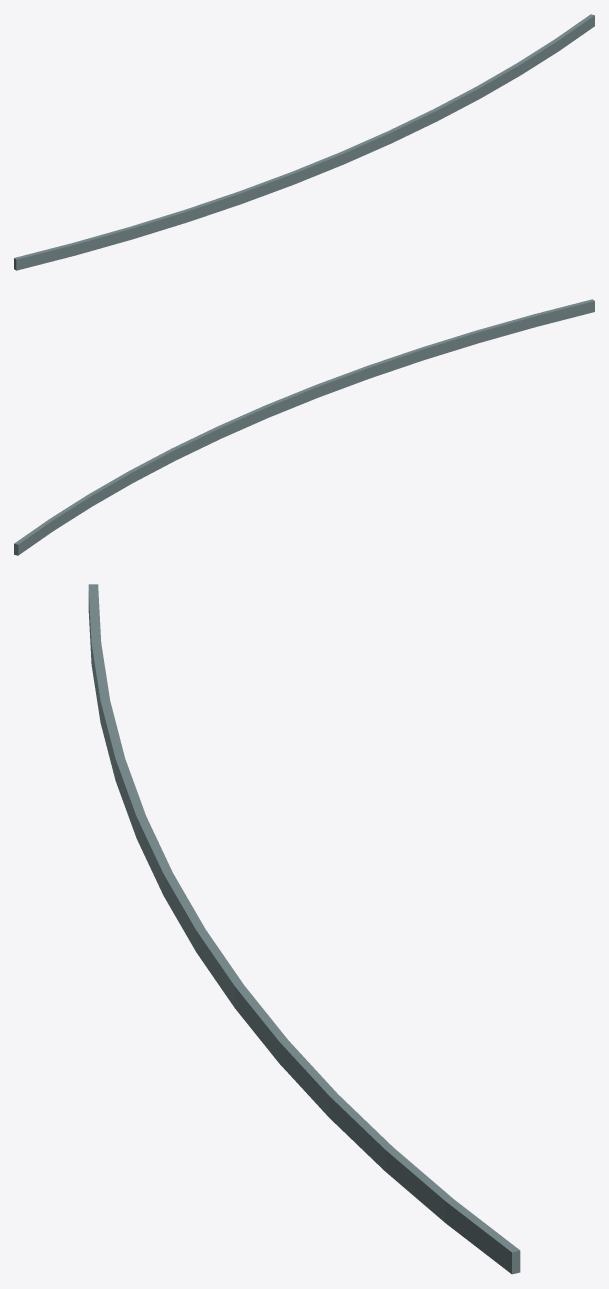
File: RoadPlan_WalkCurve_2L_A30_R36_Curb_-1.glb
The picture shows the model from 3 angles, top to bottom: view 1: azimuth 30°, elevation 25°; view 2: azimuth 210°, elevation 25°; view 3: azimuth 270°, elevation 25°; orthographic projection. The views are drawn at different scales.
Visible parts, largest first — view 1: RoadPlan_WalkCurve_2L_A30_R36_Curb_-1; view 2: RoadPlan_WalkCurve_2L_A30_R36_Curb_-1; view 3: RoadPlan_WalkCurve_2L_A30_R36_Curb_-1.
Boxes of the visible parts, x1,y1,x2,y2 form: RoadPlan_WalkCurve_2L_A30_R36_Curb_-1: (14, 14, 594, 270); RoadPlan_WalkCurve_2L_A30_R36_Curb_-1: (14, 299, 594, 555); RoadPlan_WalkCurve_2L_A30_R36_Curb_-1: (88, 584, 520, 1274).
Bounding box in the file's own units: 19.56 × 0.3 × 5.35.
